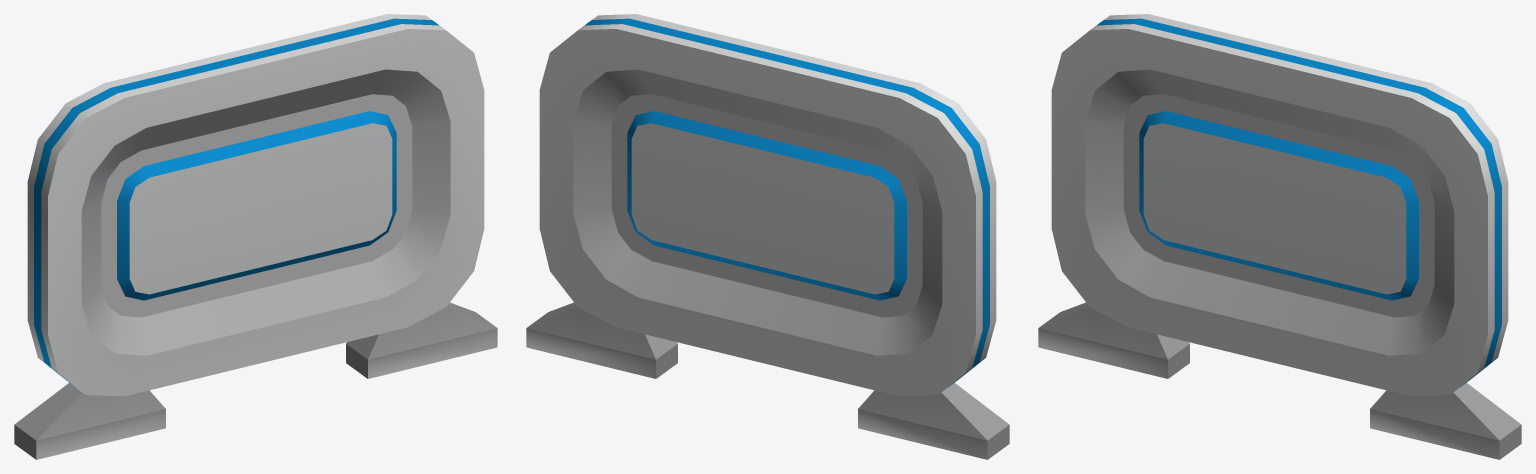
File: Fence_type_A_011.fbx
3 views of the same model, side by side, from view 1: azimuth 30°, elevation 25°; view 2: azimuth 150°, elevation 25°; view 3: azimuth 330°, elevation 25° (orthographic).
Parts seen in each view (by area): view 1: Fence_type_A_011; view 2: Fence_type_A_011; view 3: Fence_type_A_011.
Boxes of the visible parts, x1,y1,x2,y2 form: Fence_type_A_011: [14, 14, 497, 459]; Fence_type_A_011: [526, 14, 1009, 459]; Fence_type_A_011: [1038, 14, 1521, 459].
Bounding box in the file's own units: 201 × 16.53 × 141.
